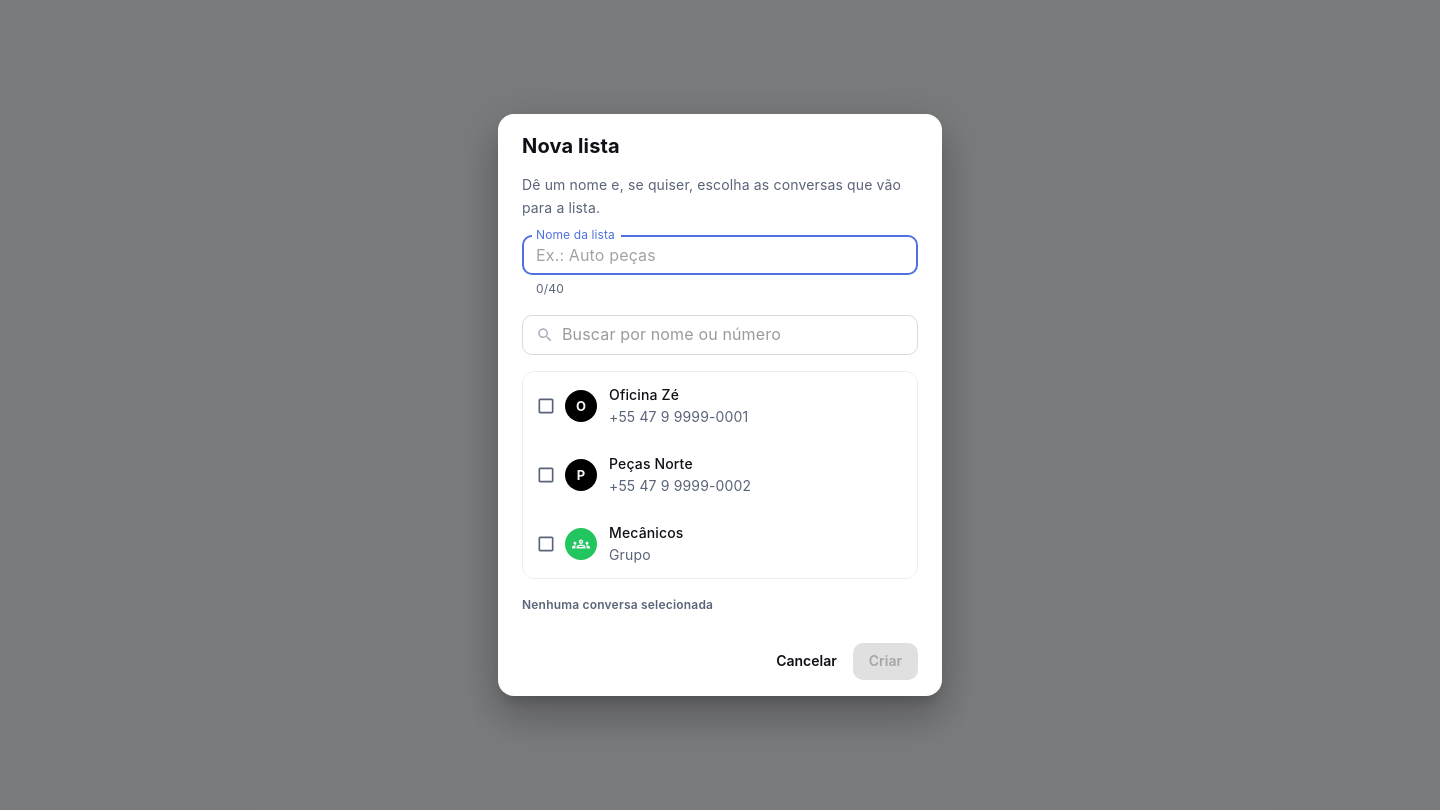
Scenario: NewListDialog › recusa nome repetido sem diferenciar maiúsculas
Step 1. Type "auto PEÇAS" into the field labelled "Nome da lista" → (720, 255), box [522, 235, 918, 275]
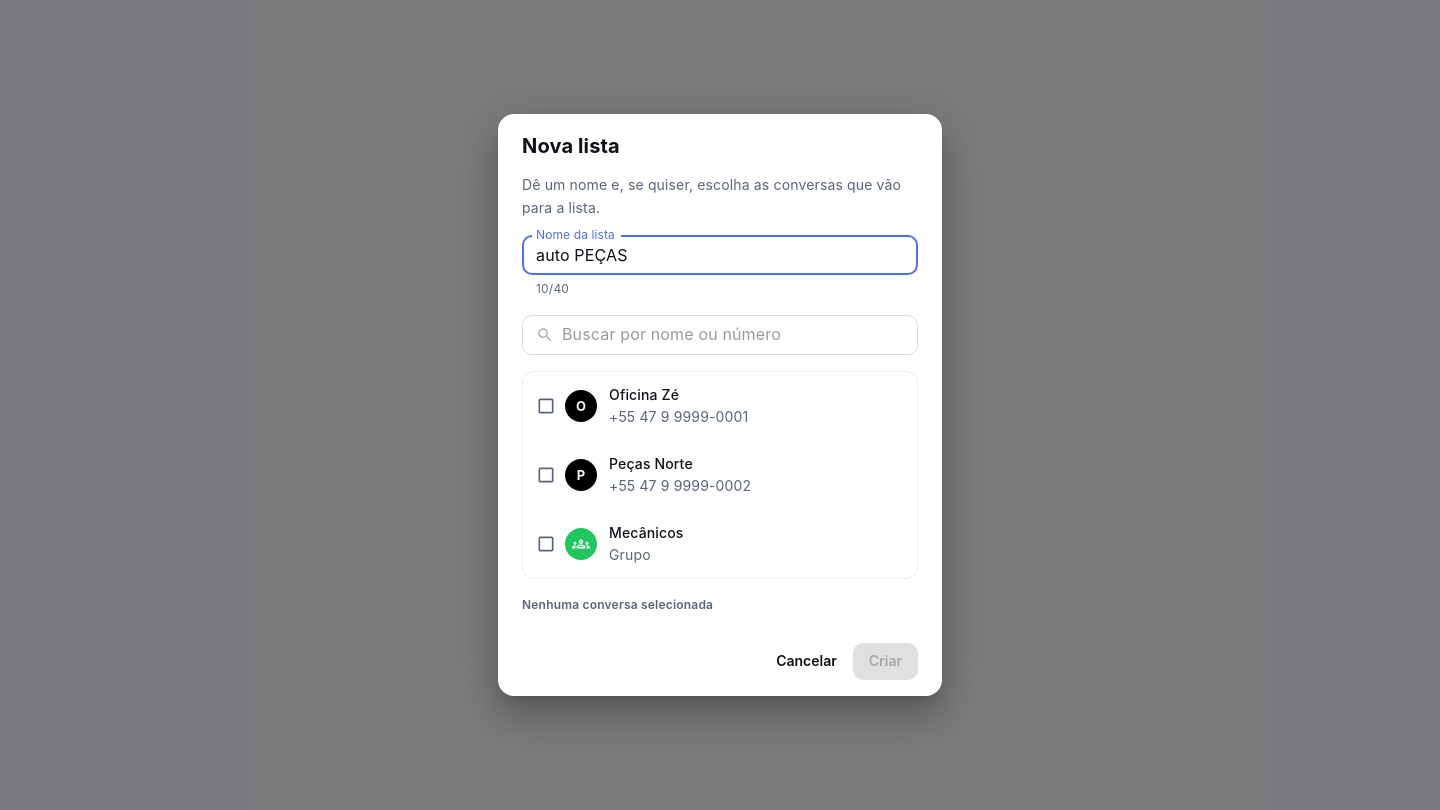
Step 2. Press Tab
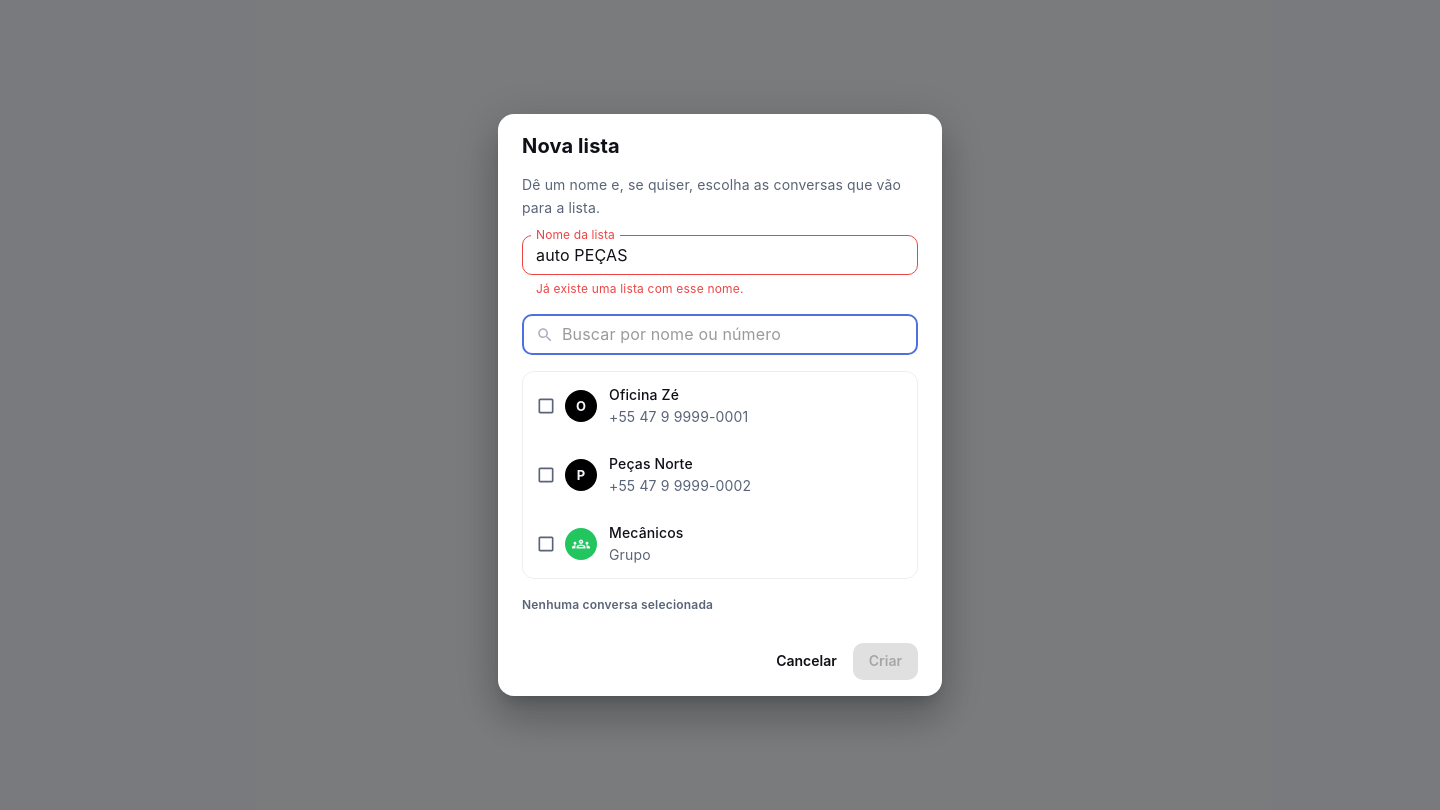
Expected: the text "Já existe uma lista com esse nome." is shown, [536, 281, 744, 296]
